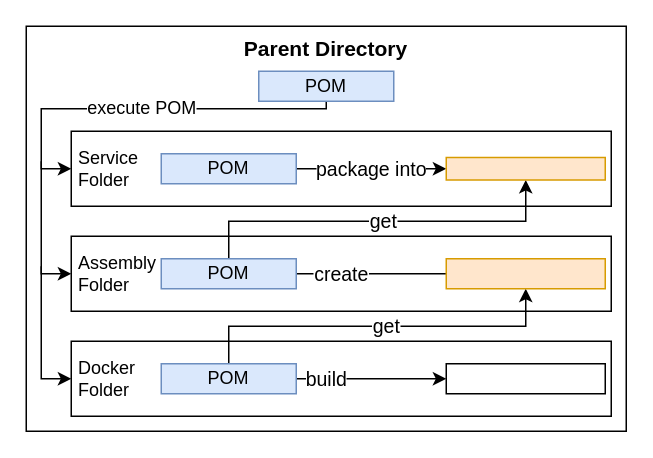
This 653x458 diagram has some shape labels left out. Here are the shapes that lost their labels. From the top down, the centre of each, then its label:
At (525,168): "JAR file".
At (525,273): "One-JAR file".
At (525,378): "DockerFile".
